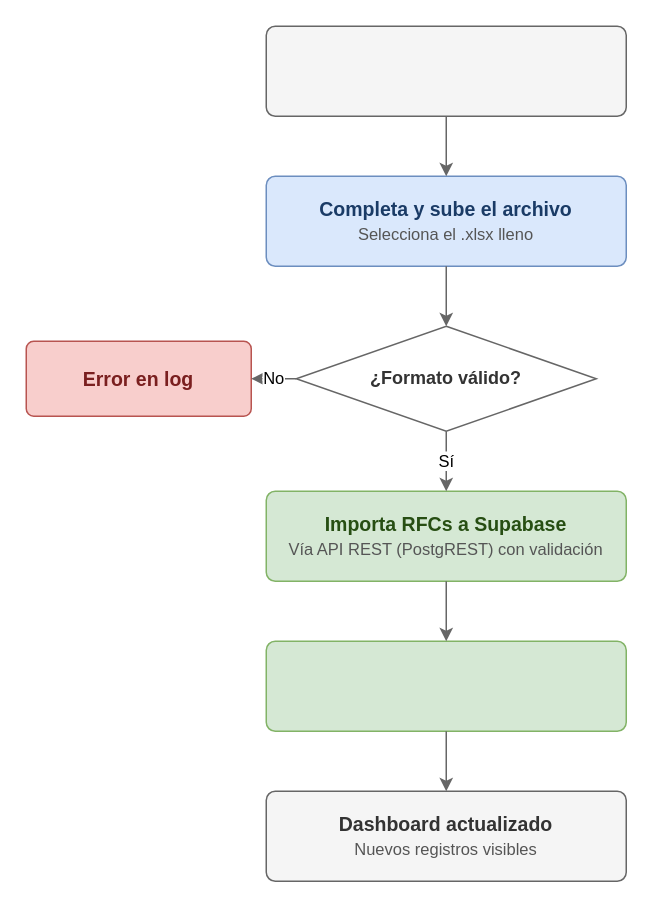
The diagram is 653 pixels wide and 908 high, and some of its shapes have lost their labels. Here are the shapes that lost their labels. From the top down, the centre of each, then its label:
pixel 445 70: Descargar plantilla Excel Columnas y sistemas de referencia
pixel 445 685: Verifica sincronización Reporte de sincronización
